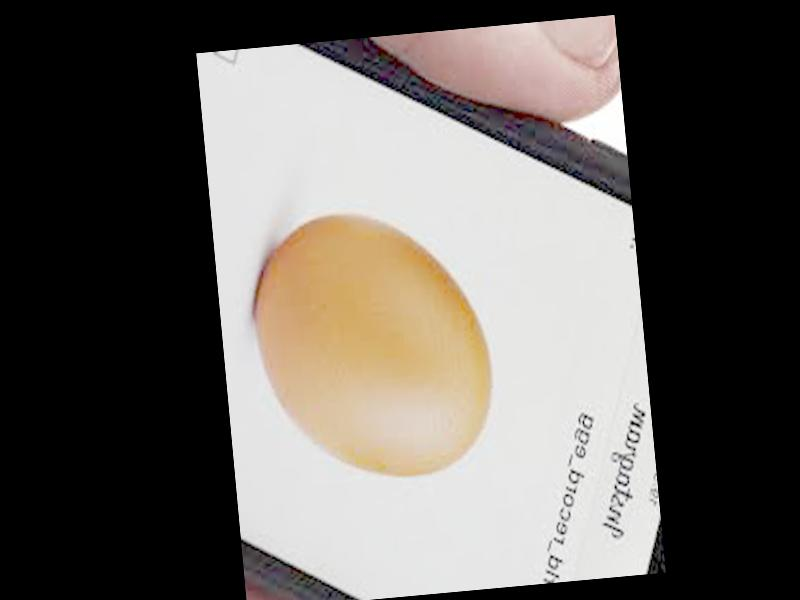Eggs: (247, 202, 500, 488)
